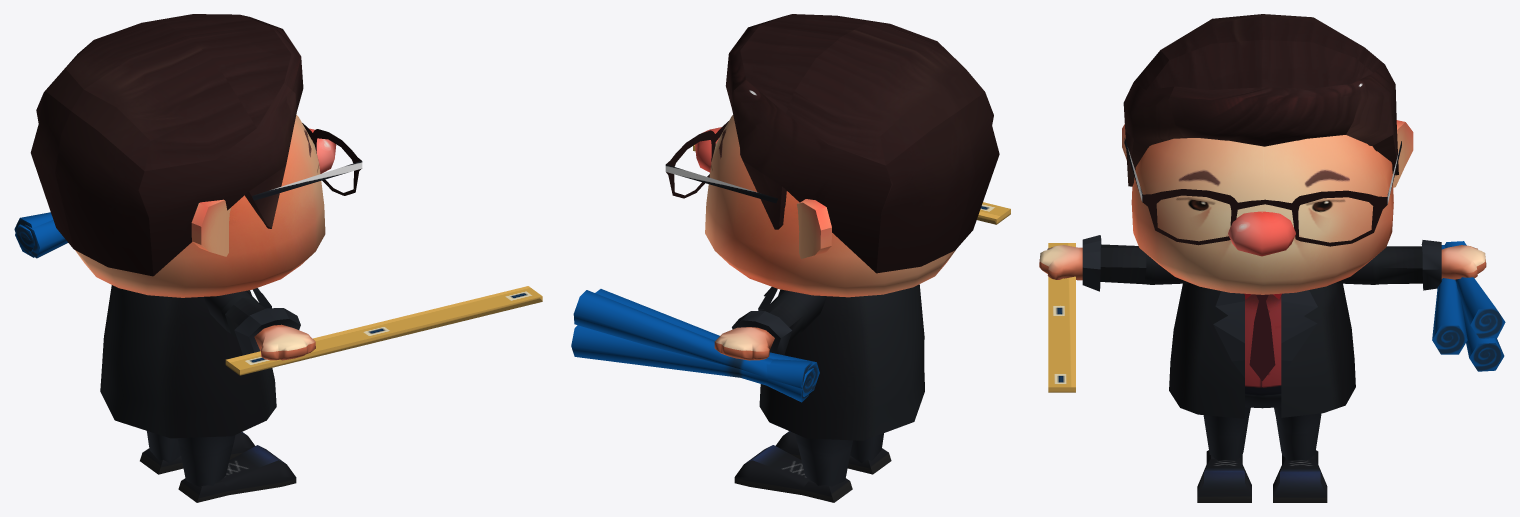
The model's file is Char_Sponsor_Male_CKK.fbx.
3 views of the same model, side by side, from view 1: azimuth 30°, elevation 25°; view 2: azimuth 150°, elevation 25°; view 3: azimuth 270°, elevation 25° (orthographic). The views are drawn at different scales.
Visible parts, largest first — view 1: Hair_, polySurface37, Sponsor_Face_M, Ruler, Base_Male_Leg1, polySurface33_2, Ear_R_M, Base_Male_Leg, Papers, polySurface41; view 2: Hair_, polySurface37, Sponsor_Face_M, Papers, Base_Male_Leg, polySurface33_1, Ear_L_M, polySurface41, Base_Male_Leg1, Ruler, Nose_M; view 3: Sponsor_Face_M, Hair_, polySurface37, Papers, polySurface33_2, polySurface33_1, Base_Male_Leg, Base_Male_Leg1, polySurface41, Ruler, Base_Male_Body, Nose_M (+2 smaller).
Boxes of the visible parts, x1=… form: Hair_: x1=30, y1=14, x2=303, y2=276; polySurface37: x1=100, y1=285, x2=276, y2=438; Sponsor_Face_M: x1=75, y1=115, x2=325, y2=297; Ruler: x1=225, y1=286, x2=542, y2=375; Base_Male_Leg1: x1=177, y1=435, x2=296, y2=502; polySurface33_2: x1=204, y1=290, x2=315, y2=360; Ear_R_M: x1=191, y1=199, x2=231, y2=256; Base_Male_Leg: x1=140, y1=431, x2=254, y2=474; Papers: x1=14, y1=212, x2=67, y2=258; polySurface41: x1=252, y1=123, x2=362, y2=200; Hair_: x1=725, y1=14, x2=999, y2=273; polySurface37: x1=758, y1=284, x2=924, y2=440; Sponsor_Face_M: x1=705, y1=115, x2=956, y2=297; Papers: x1=571, y1=289, x2=819, y2=402; Base_Male_Leg: x1=734, y1=434, x2=852, y2=502; polySurface33_1: x1=714, y1=290, x2=826, y2=360; Ear_L_M: x1=797, y1=199, x2=831, y2=258; polySurface41: x1=665, y1=121, x2=777, y2=203; Base_Male_Leg1: x1=775, y1=431, x2=891, y2=474; Ruler: x1=693, y1=145, x2=1010, y2=224; Nose_M: x1=695, y1=127, x2=721, y2=172; Sponsor_Face_M: x1=1131, y1=135, x2=1393, y2=294; Hair_: x1=1123, y1=14, x2=1398, y2=186; polySurface37: x1=1169, y1=282, x2=1355, y2=418; Papers: x1=1432, y1=241, x2=1505, y2=371; polySurface33_2: x1=1039, y1=235, x2=1188, y2=291; polySurface33_1: x1=1337, y1=240, x2=1486, y2=290; Base_Male_Leg: x1=1273, y1=407, x2=1327, y2=502; Base_Male_Leg1: x1=1197, y1=407, x2=1251, y2=502; polySurface41: x1=1124, y1=138, x2=1401, y2=246; Ruler: x1=1048, y1=243, x2=1075, y2=392; Base_Male_Body: x1=1245, y1=294, x2=1281, y2=408; Nose_M: x1=1228, y1=211, x2=1295, y2=256.
Size of the model in its own units: 6.48 by 7.2 by 7.1.
Materials: 2 (2 with a texture image).
